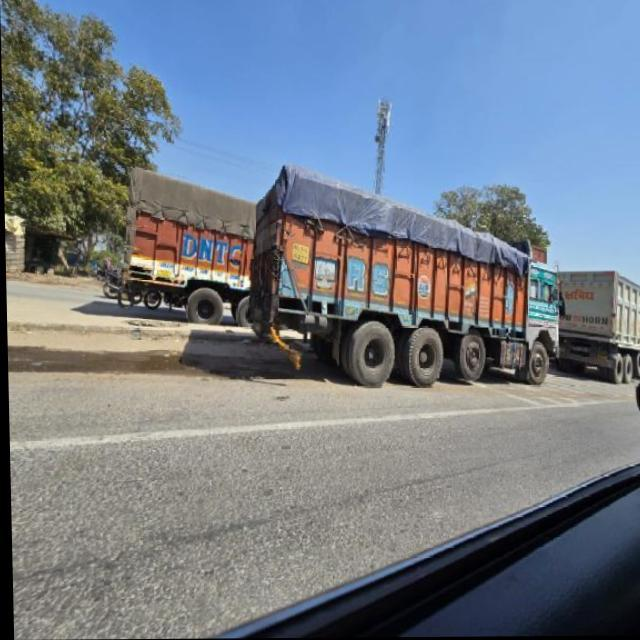covered: (252, 175, 540, 402), (116, 156, 250, 338)
uncovered: (554, 268, 640, 379)
